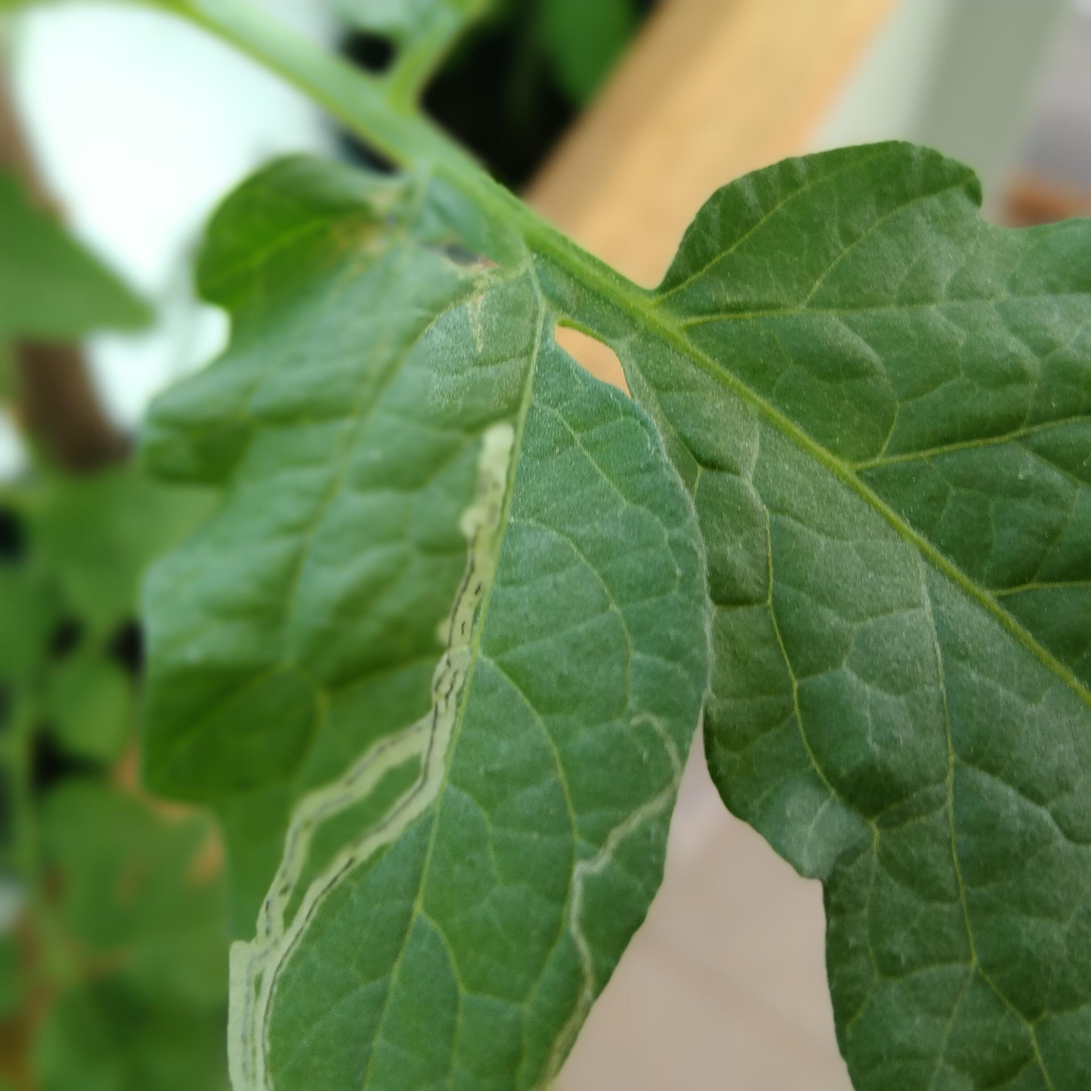Leaf_Miner: (114, 238, 718, 1091)
